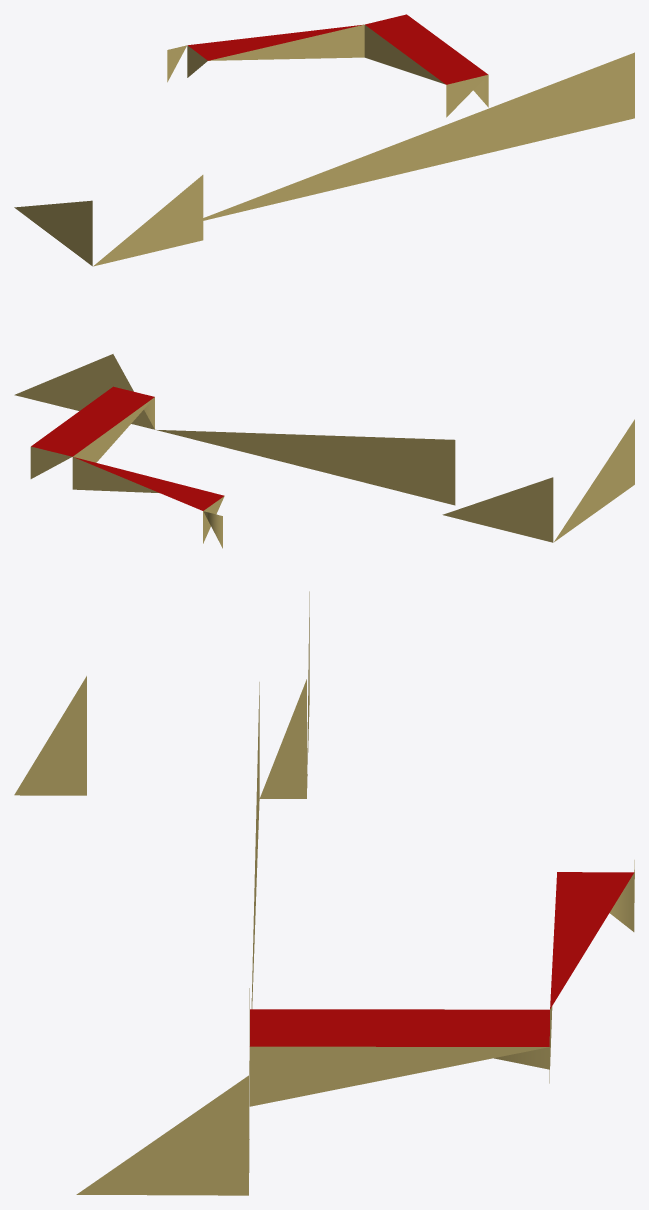
3 renders of one model, top to bottom at view 1: azimuth 30°, elevation 25°; view 2: azimuth 150°, elevation 25°; view 3: azimuth 270°, elevation 25°, orthographic. The views are drawn at different scales.
Bounding box in the file's own units: 88.78 × 10 × 46.79.
